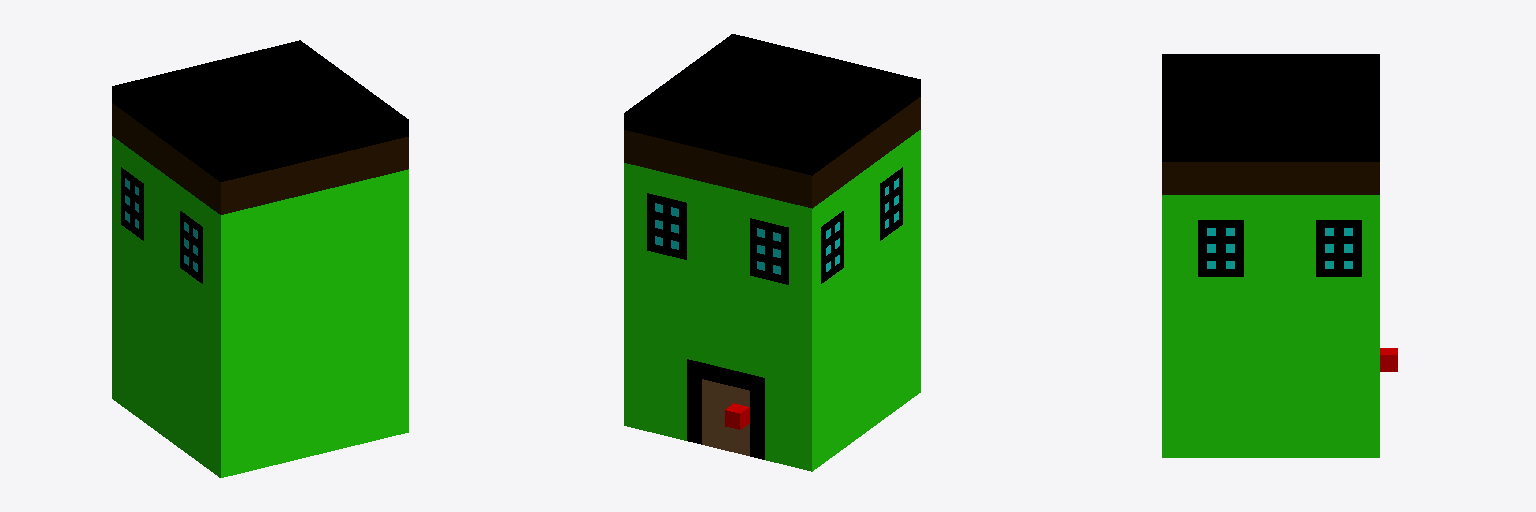
3 renders of one model, left to right at view 1: azimuth 30°, elevation 25°; view 2: azimuth 150°, elevation 25°; view 3: azimuth 270°, elevation 25°, orthographic.
Parts seen in each view (by area): view 1: object 1; view 2: object 1; view 3: object 1.
Boxes of the visible parts, <box> form: object 1: <box>112,40,408,477</box>; object 1: <box>624,34,920,471</box>; object 1: <box>1162,54,1397,457</box>.
Size of the model in its own units: 2.4 by 3.8 by 2.6.
Materials: 1 (1 with a texture image).